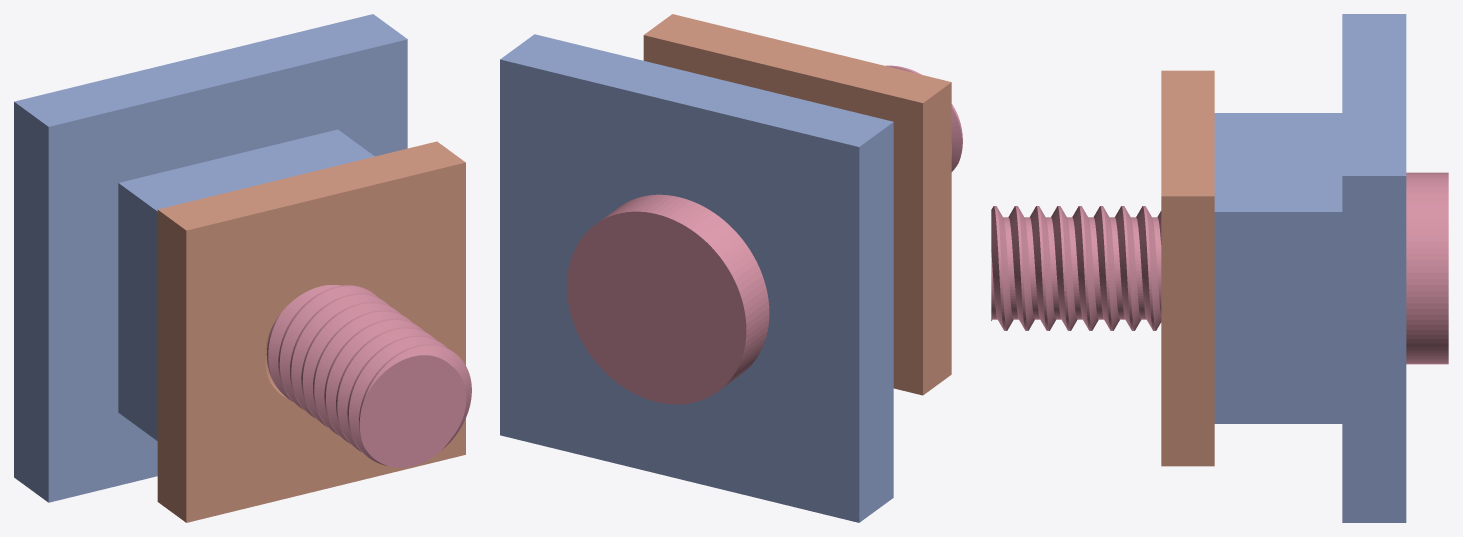
File: screw_jack_demo.glb
The picture shows the model from 3 angles, left to right: view 1: azimuth 30°, elevation 25°; view 2: azimuth 150°, elevation 25°; view 3: azimuth 270°, elevation 25°; orthographic projection. The views are drawn at different scales.
Parts seen in each view (by area): view 1: base, pad, screw; view 2: base, screw, pad; view 3: base, screw, pad.
Part boxes in pixels (x1,y1,x2,y2): base: [14, 14, 407, 502]; pad: [157, 141, 465, 522]; screw: [266, 285, 471, 467]; base: [500, 34, 893, 522]; screw: [567, 65, 962, 404]; pad: [643, 14, 951, 395]; base: [1214, 14, 1406, 522]; screw: [991, 172, 1448, 364]; pad: [1161, 70, 1214, 466].
Size of the model in its own units: 36 by 36 by 43.
